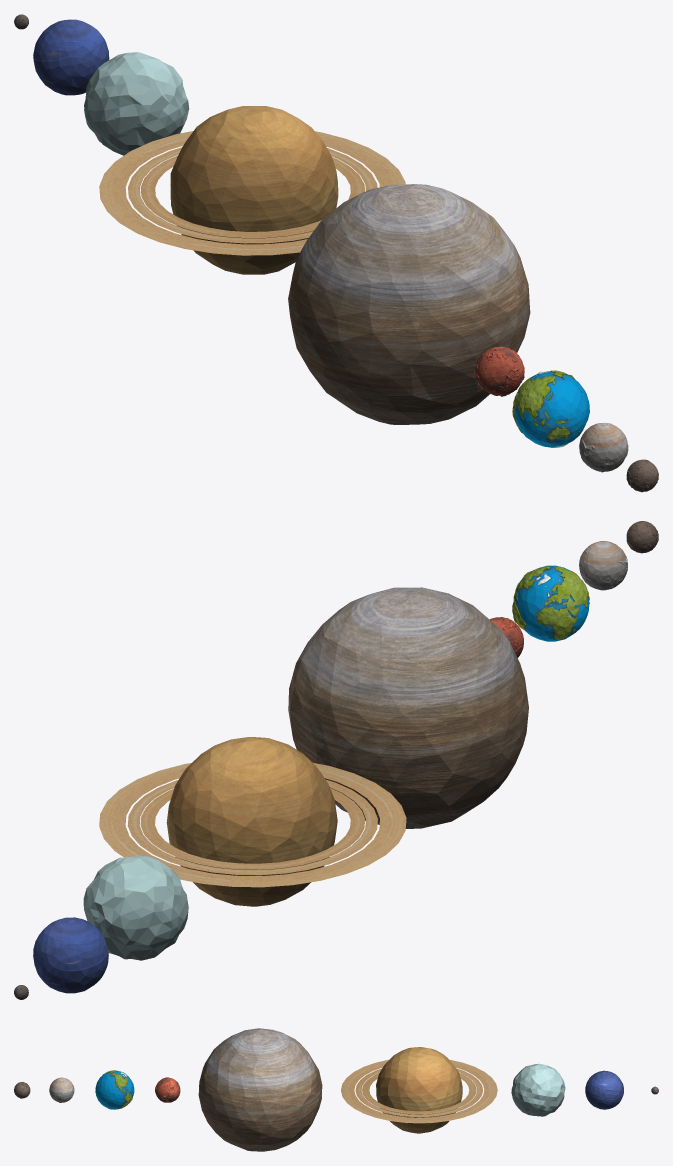
The model's file is Solar system.fbx.
3 views of the same model, one above another, from view 1: azimuth 30°, elevation 25°; view 2: azimuth 150°, elevation 25°; view 3: azimuth 270°, elevation 25° (orthographic). The views are drawn at different scales.
Parts seen in each view (by area): view 1: Jupiter, Saturn, Uranus, Earth, Neptune, Mars, Venus, Mercury; view 2: Jupiter, Saturn, Uranus, Earth, Neptune, Venus, Mercury; view 3: Jupiter, Saturn, Uranus, Earth, Neptune, Mars, Venus, Mercury.
Part boxes in pixels (<box>): Jupiter: <box>288,184,530,424</box>; Saturn: <box>99,106,405,274</box>; Uranus: <box>84,52,189,155</box>; Earth: <box>512,370,589,447</box>; Neptune: <box>33,19,109,95</box>; Mars: <box>474,346,524,396</box>; Venus: <box>579,422,628,472</box>; Mercury: <box>626,459,658,492</box>; Jupiter: <box>288,587,528,828</box>; Saturn: <box>99,737,406,906</box>; Uranus: <box>83,855,188,960</box>; Earth: <box>512,565,589,641</box>; Neptune: <box>33,917,108,993</box>; Venus: <box>579,541,627,590</box>; Mercury: <box>626,521,658,553</box>; Jupiter: <box>198,1028,322,1151</box>; Saturn: <box>341,1047,497,1133</box>; Uranus: <box>511,1063,565,1116</box>; Earth: <box>95,1070,134,1109</box>; Neptune: <box>585,1070,623,1109</box>; Mars: <box>155,1077,180,1102</box>; Venus: <box>49,1077,74,1102</box>; Mercury: <box>14,1082,30,1098</box>.
Size of the model in its own units: 1186 by 932 by 4873.
9 materials, 9 textured.
